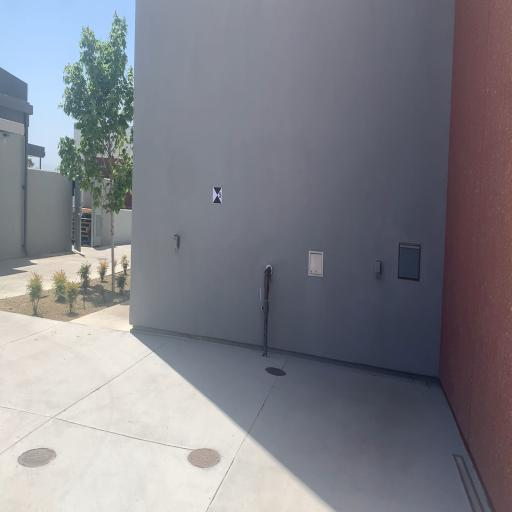target5: (212, 185, 222, 205)
